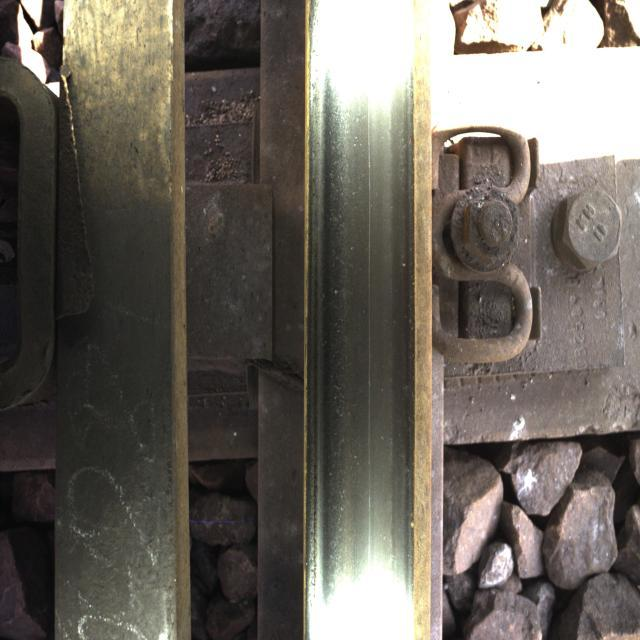break: (315, 50, 410, 609)
